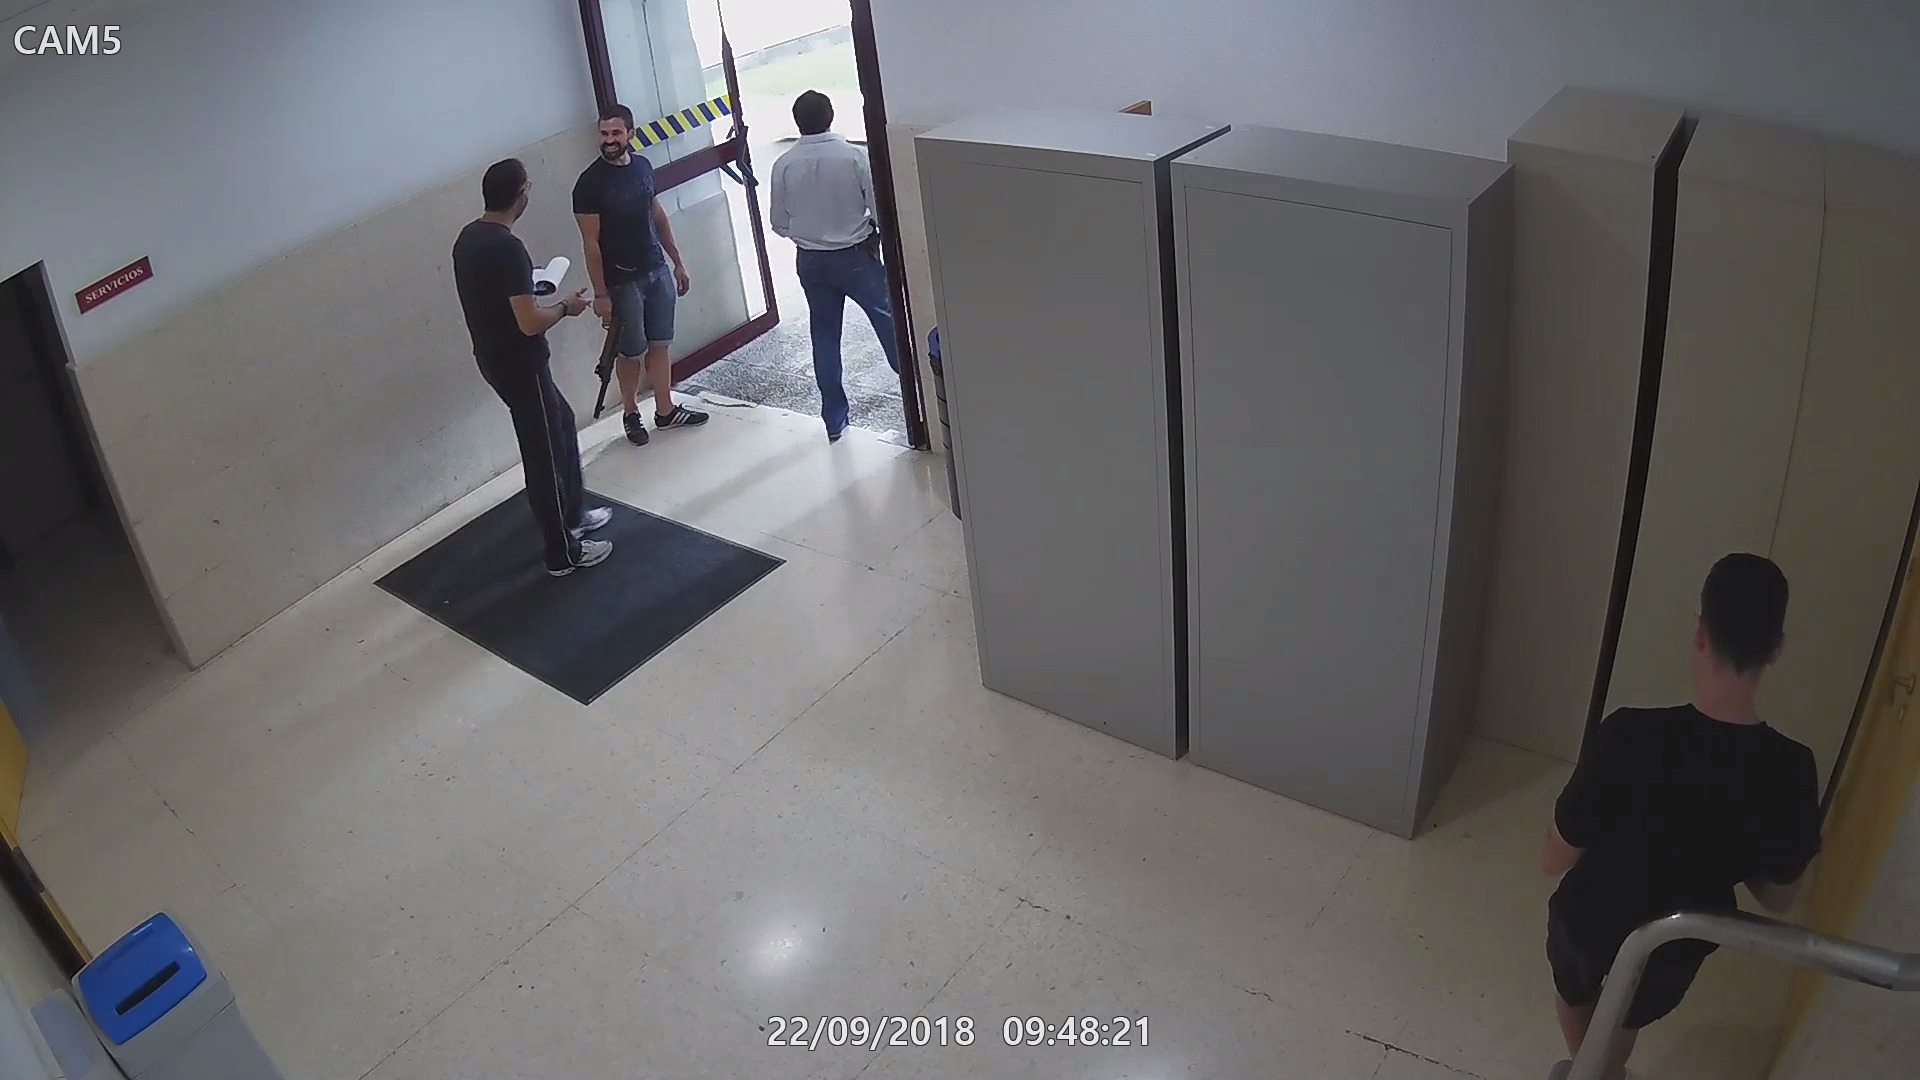Short_rifle: (588, 290, 629, 423)
